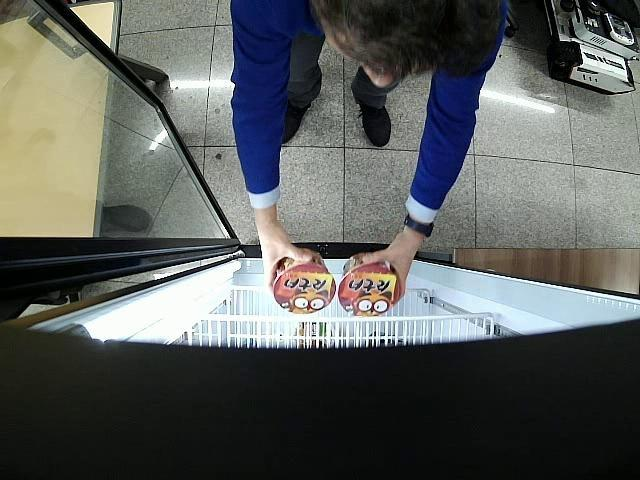05_nuguri_L: (271, 248, 336, 314), (338, 253, 401, 316)
